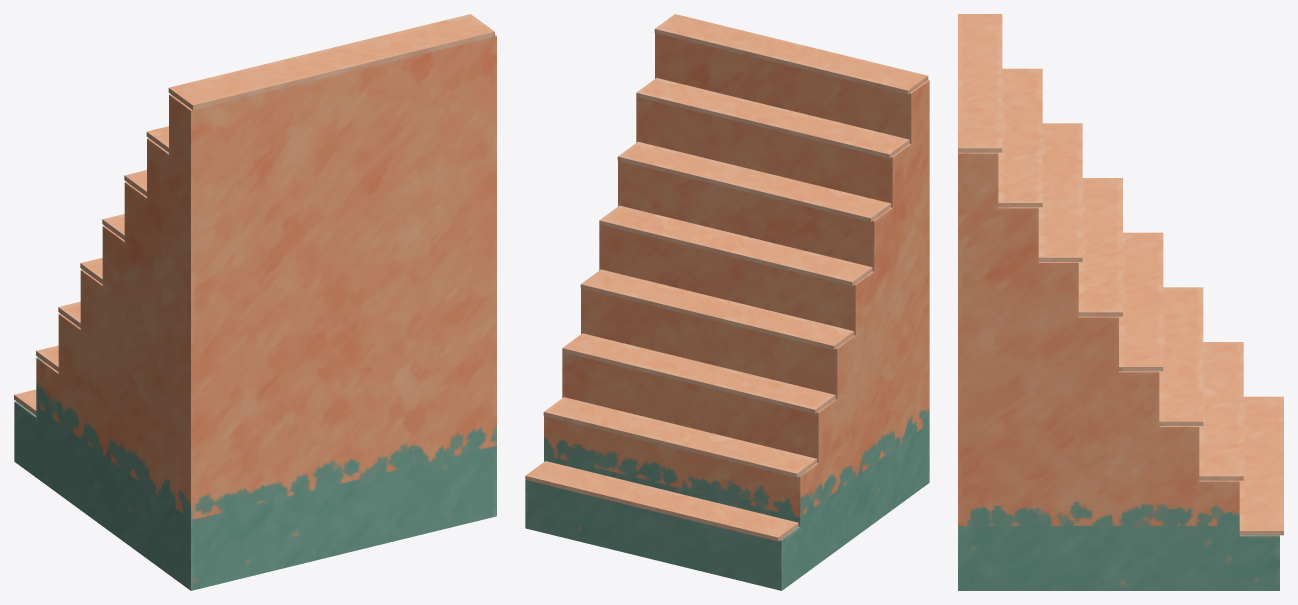
File: stairs.bundle.fbx
3 renders of one model, left to right at view 1: azimuth 30°, elevation 25°; view 2: azimuth 150°, elevation 25°; view 3: azimuth 270°, elevation 25°, orthographic. The views are drawn at different scales.
Parts seen in each view (by area): view 1: stairs, stairs_s01, stairs_s04, stairs_s05, stairs_s02, stairs_low; view 2: stairs, stairs_s04, stairs_low, stairs_s02, stairs_s03, stairs_s05, stairs_s00, stairs_s01; view 3: stairs, stairs_low, stairs_s05, stairs_s01, stairs_s00, stairs_s02, stairs_s03, stairs_s04.
Boxes of the visible parts, x1,y1,x2,y2 form: stairs: [14, 15, 496, 590]; stairs_s01: [168, 253, 496, 590]; stairs_s04: [15, 262, 190, 590]; stairs_s05: [261, 16, 496, 329]; stairs_s02: [102, 31, 405, 310]; stairs_low: [14, 14, 494, 415]; stairs: [525, 15, 929, 590]; stairs_s04: [645, 275, 927, 590]; stairs_low: [525, 14, 928, 541]; stairs_s02: [712, 33, 929, 300]; stairs_s03: [581, 180, 834, 387]; stairs_s05: [581, 15, 760, 333]; stairs_s00: [525, 334, 653, 529]; stairs_s01: [911, 242, 929, 475]; stairs: [958, 14, 1282, 590]; stairs_low: [958, 14, 1283, 535]; stairs_s05: [958, 113, 1159, 491]; stairs_s01: [958, 421, 1116, 590]; stairs_s00: [1113, 426, 1282, 590]; stairs_s02: [959, 14, 1121, 210]; stairs_s03: [1087, 207, 1196, 378]; stairs_s04: [1123, 234, 1282, 468].
Size of the model in its own units: 8 by 12.12 by 8.1.
1 material, 1 textured.
